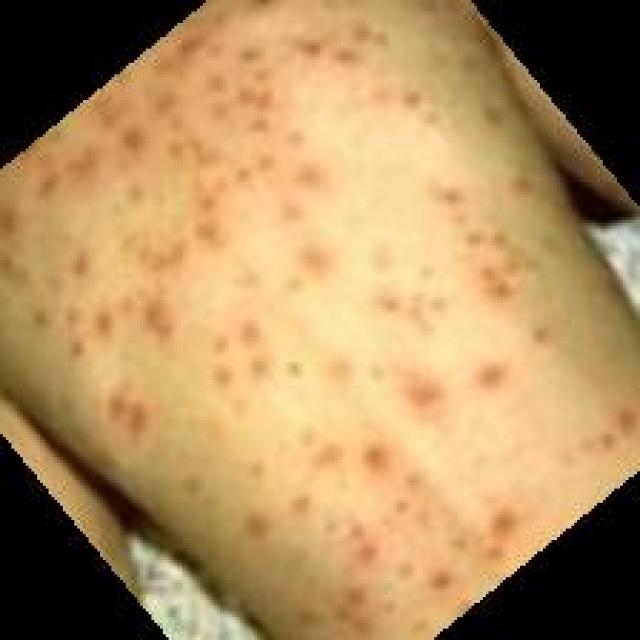others: (30, 6, 640, 586)
